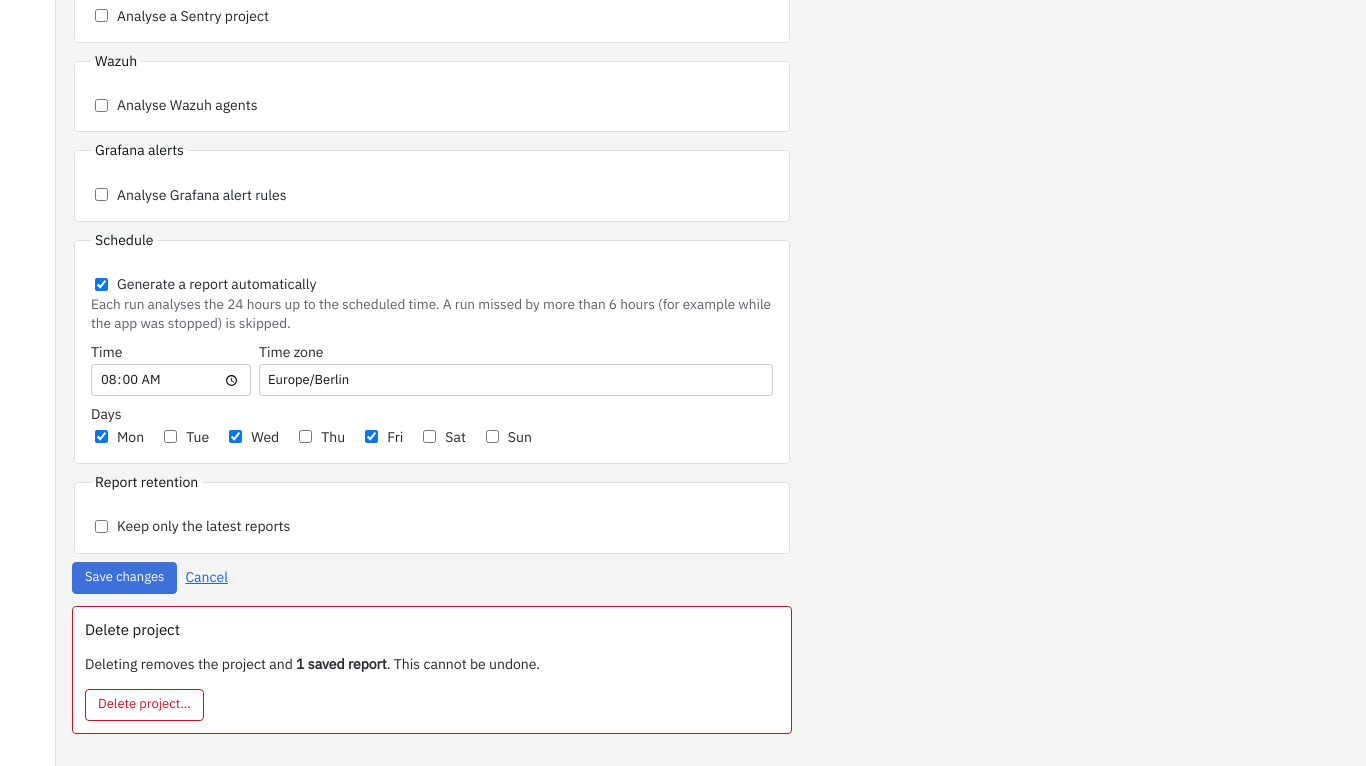
Scenario: project form › keeps a Cloudflare source's credential and maps server errors to the right source
(page scrolled)
Click the button "Save changes".
click(125, 578)  # box [72,562,177,594]
(page scrolled)
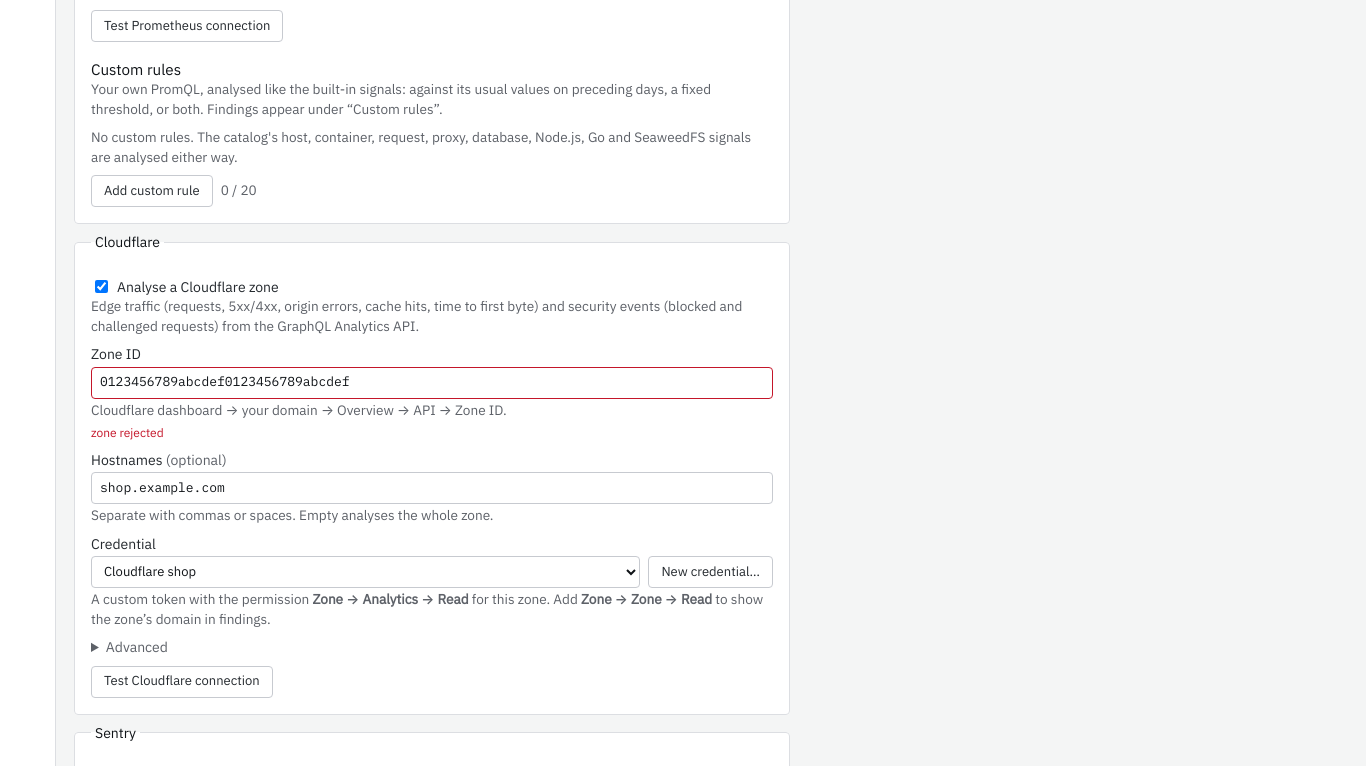
Result: the text "zone rejected" is shown at [91,425,164,440]
